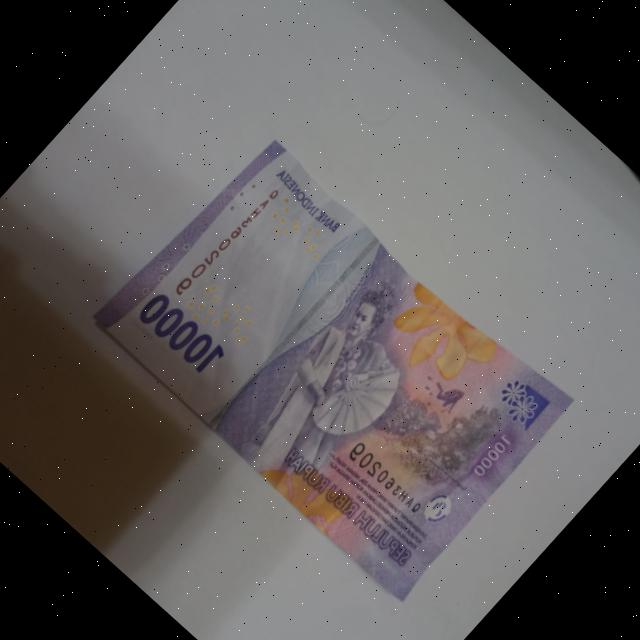10K: (51, 98, 594, 630)
